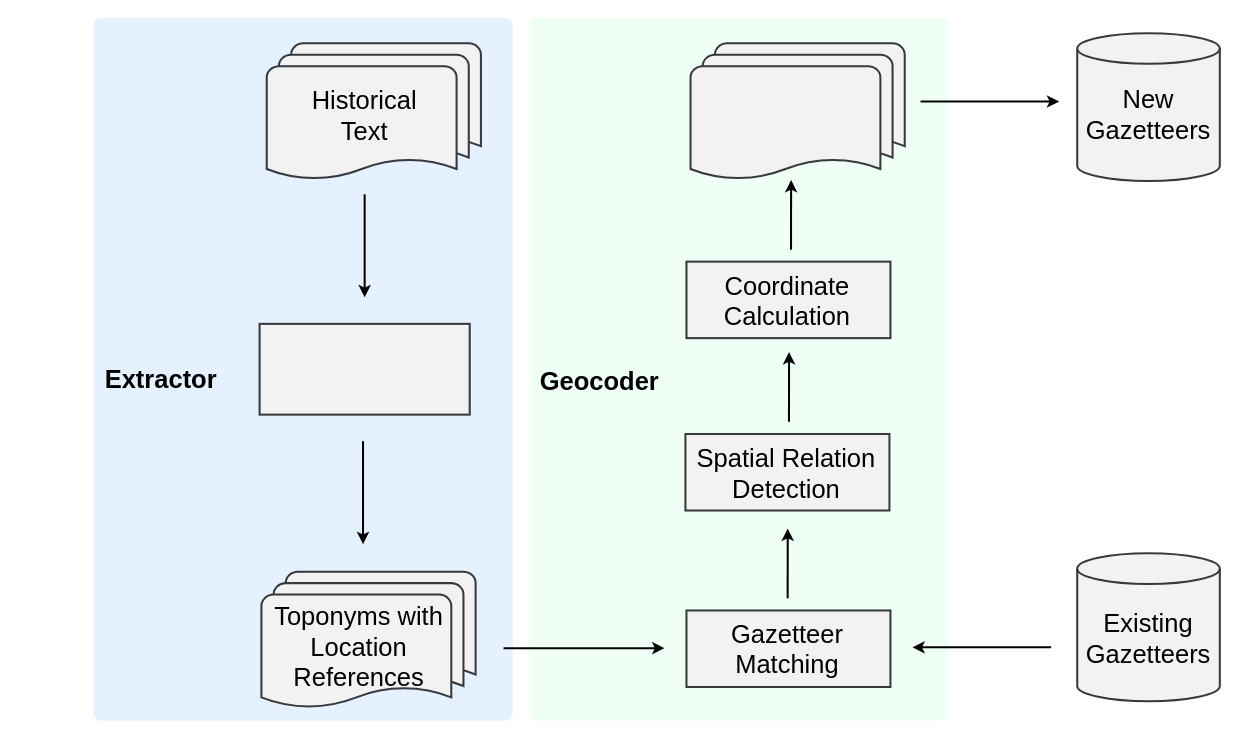
Image size: 1258x737. Some labels were removed from this diagram. The box of each missing label's shape, as (x1, y1, x2, y2) in pixels:
Generative AI Model: (258, 322, 470, 415)
Toponyms with Coordinates: (689, 42, 905, 182)
